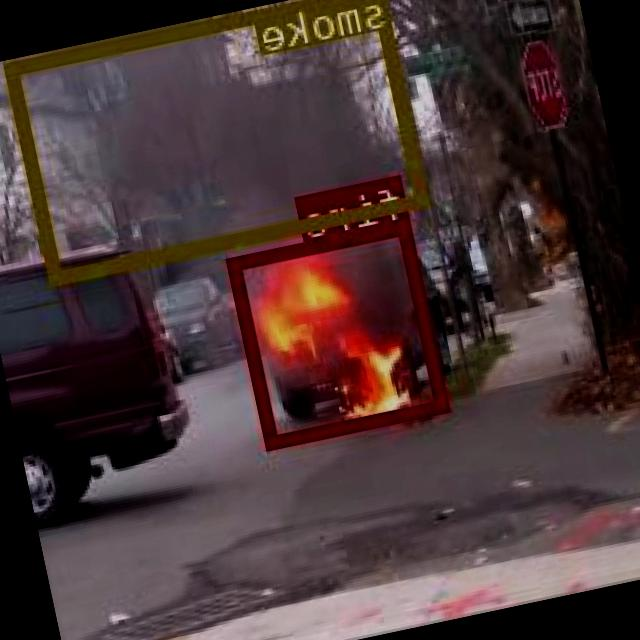fire: (230, 217, 450, 446)
smoke: (7, 0, 430, 281)
